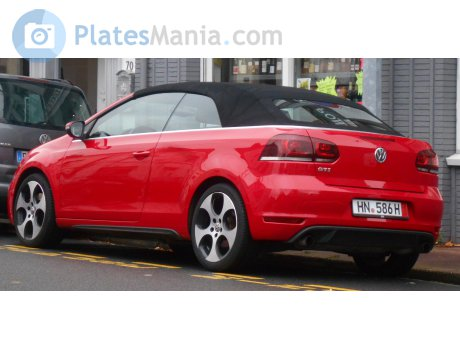License Plates: (351, 198, 401, 213)
